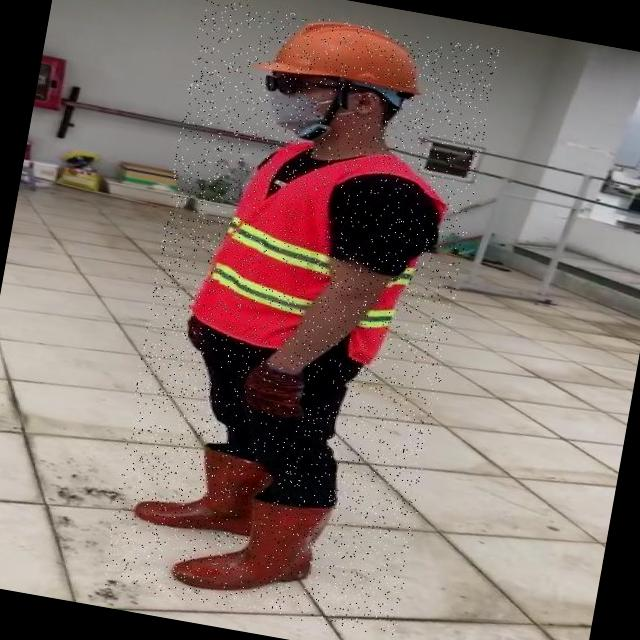boots: (168, 478, 332, 608), (132, 438, 278, 542)
gloves: (238, 356, 308, 426)
helmet: (253, 21, 419, 97), (253, 21, 420, 96)
vest: (190, 124, 461, 373)
